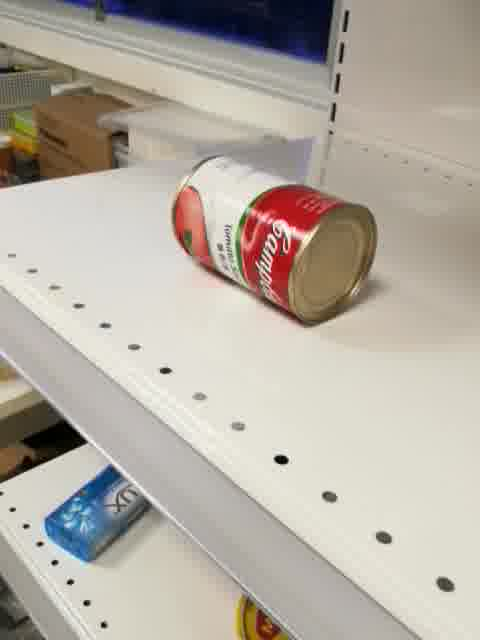tomatosoup: (171, 153, 377, 328)
